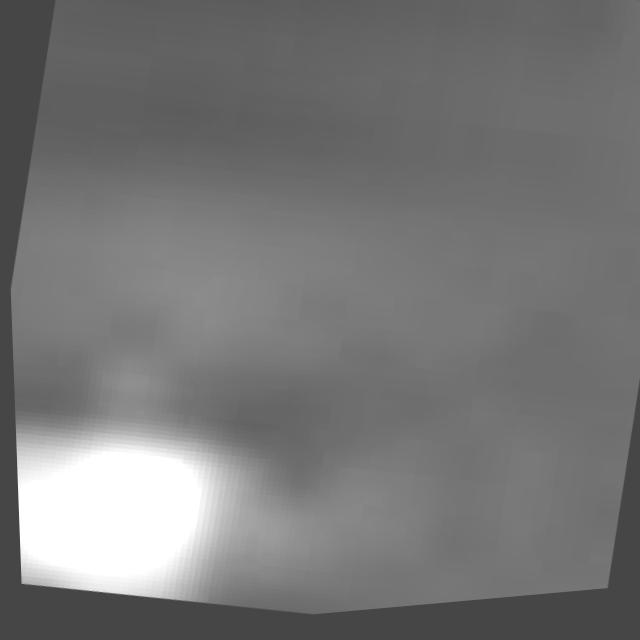person: (13, 390, 310, 635)
